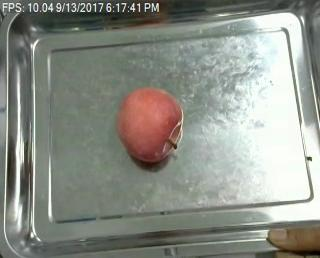apple: (115, 86, 186, 163)
